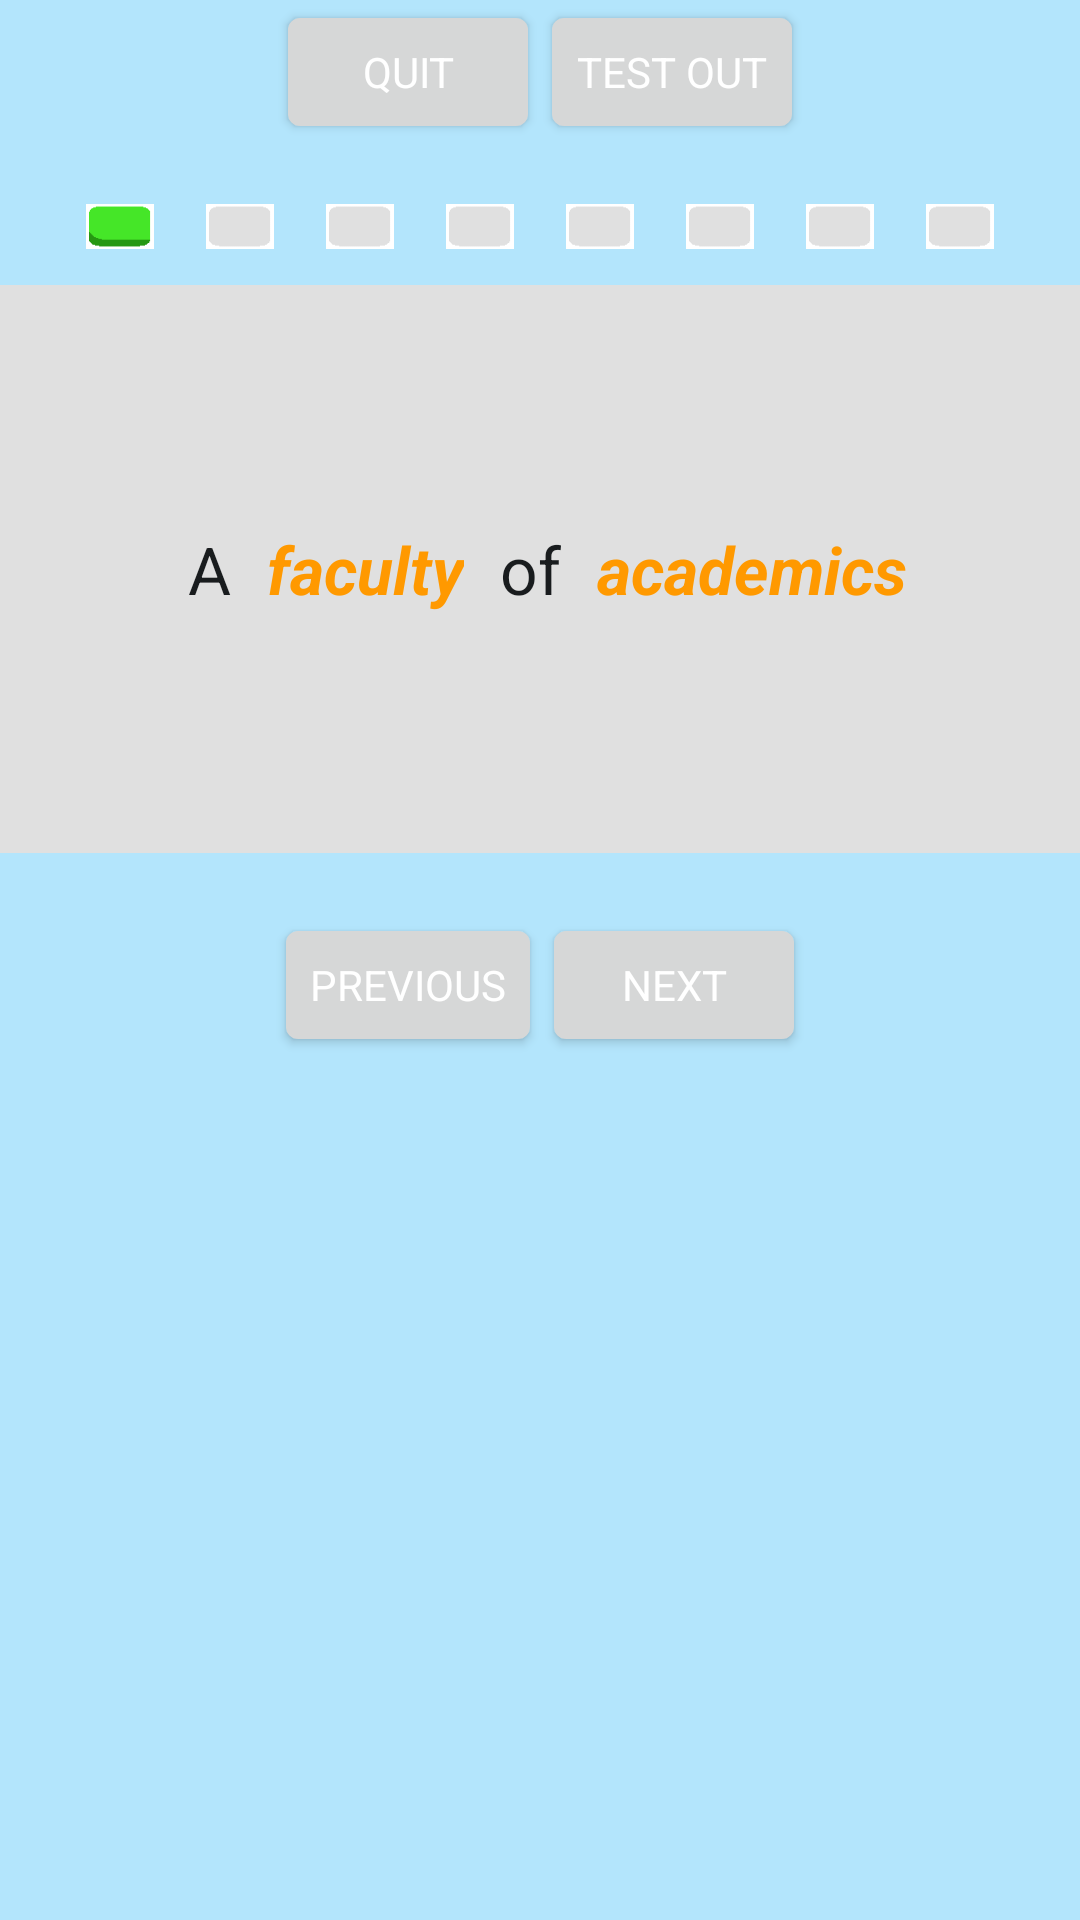

Icon bounding boxes for this 1080w x 1920h phone screenshot, format [x1, y1, x2, y2]:
progressboxfilled: [86, 204, 154, 249]
